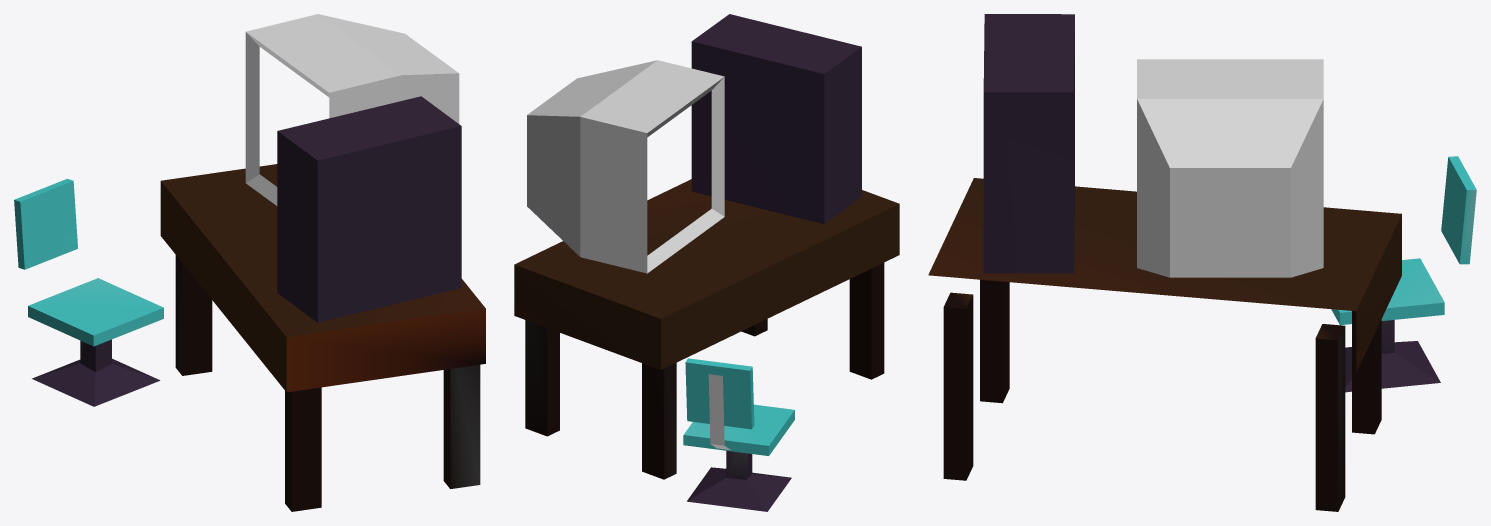
File: Table.glb
3 views of the same model, side by side, from view 1: azimuth 30°, elevation 25°; view 2: azimuth 150°, elevation 25°; view 3: azimuth 270°, elevation 25° (orthographic). The views are drawn at different scales.
Visible parts, largest first — view 1: MonitorBody; view 2: MonitorBody; view 3: MonitorBody.
Boxes of the visible parts, x1,y1,x2,y2 form: MonitorBody: [14, 14, 485, 511]; MonitorBody: [514, 14, 899, 511]; MonitorBody: [928, 14, 1476, 511].
Bounding box in the file's own units: 0.9192 × 0.9519 × 1.23.
